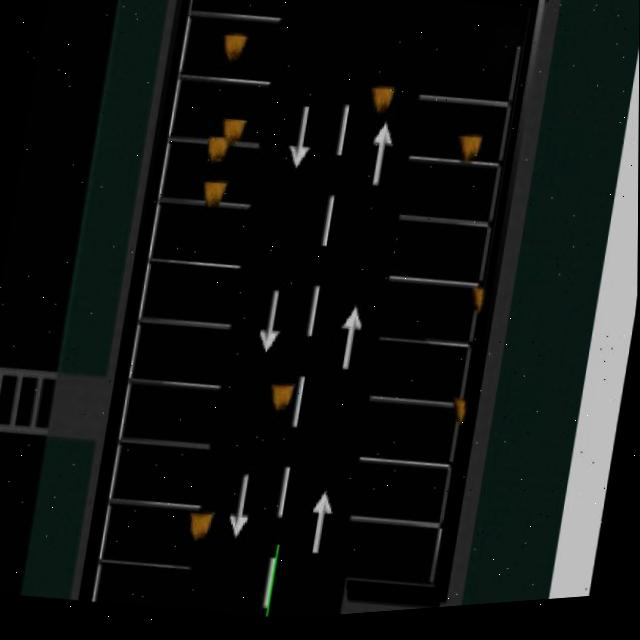garbage-trXY: (266, 383, 299, 414), (366, 89, 398, 120), (184, 510, 215, 542), (217, 34, 247, 67), (454, 138, 485, 169), (203, 139, 232, 167), (220, 119, 246, 148), (201, 183, 227, 211), (468, 292, 489, 320), (451, 401, 471, 429)
